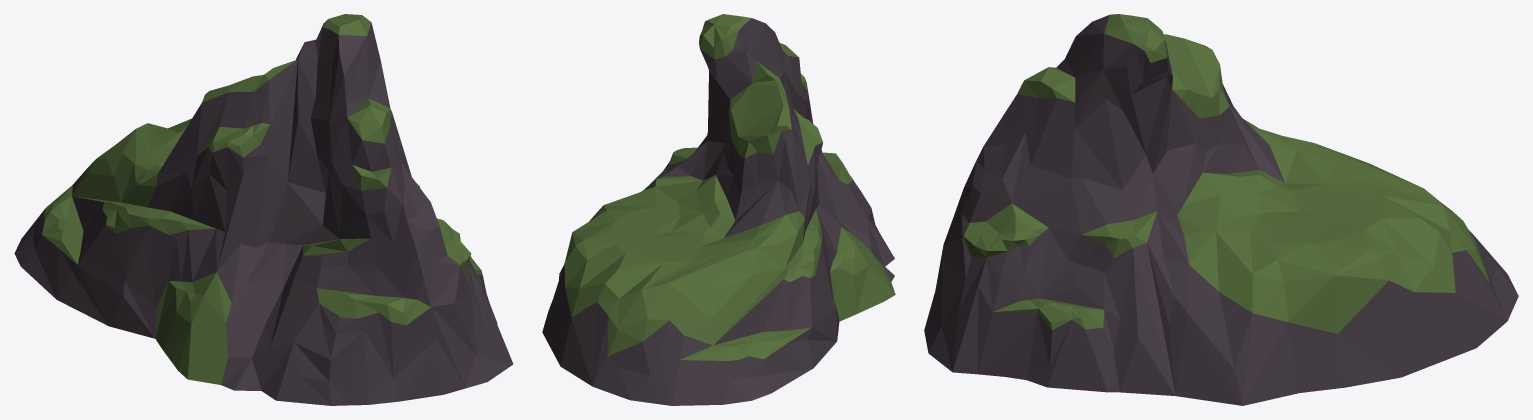
The model's file is Mountain_5_2 Asia.fbx.
The picture shows the model from 3 angles, left to right: view 1: azimuth 30°, elevation 25°; view 2: azimuth 150°, elevation 25°; view 3: azimuth 270°, elevation 25°; orthographic projection. The views are drawn at different scales.
Parts seen in each view (by area): view 1: Mountain_5_2; view 2: Mountain_5_2; view 3: Mountain_5_2.
Part boxes in pixels (bbox=[...]): Mountain_5_2: bbox=[14, 14, 513, 405]; Mountain_5_2: bbox=[542, 14, 895, 405]; Mountain_5_2: bbox=[924, 14, 1518, 405].
Bounding box in the file's own units: 34.77 × 29.21 × 50.52.
